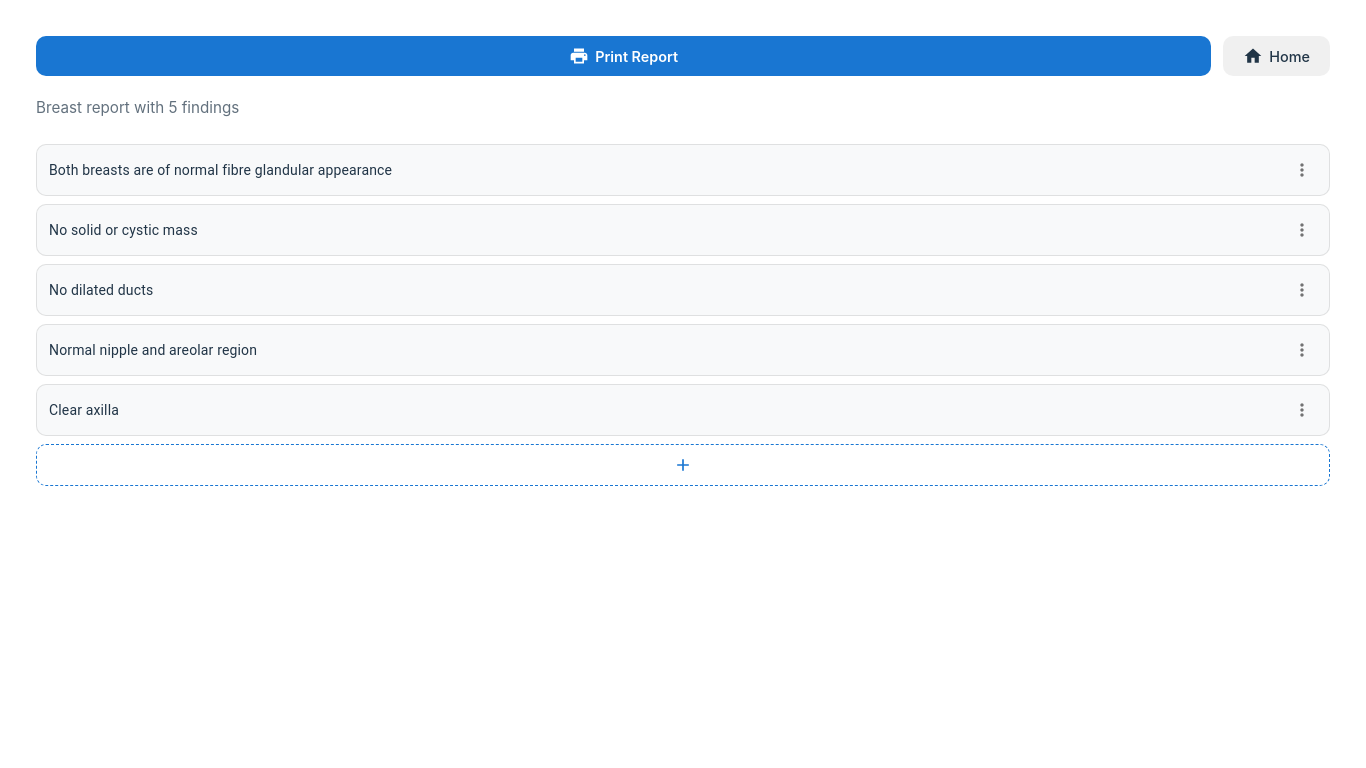
Scenario: MobileReviewCard › discard reverts finding text
Click the 1st button named "Finding options": click(1302, 170) 1287,155 -> 1317,185
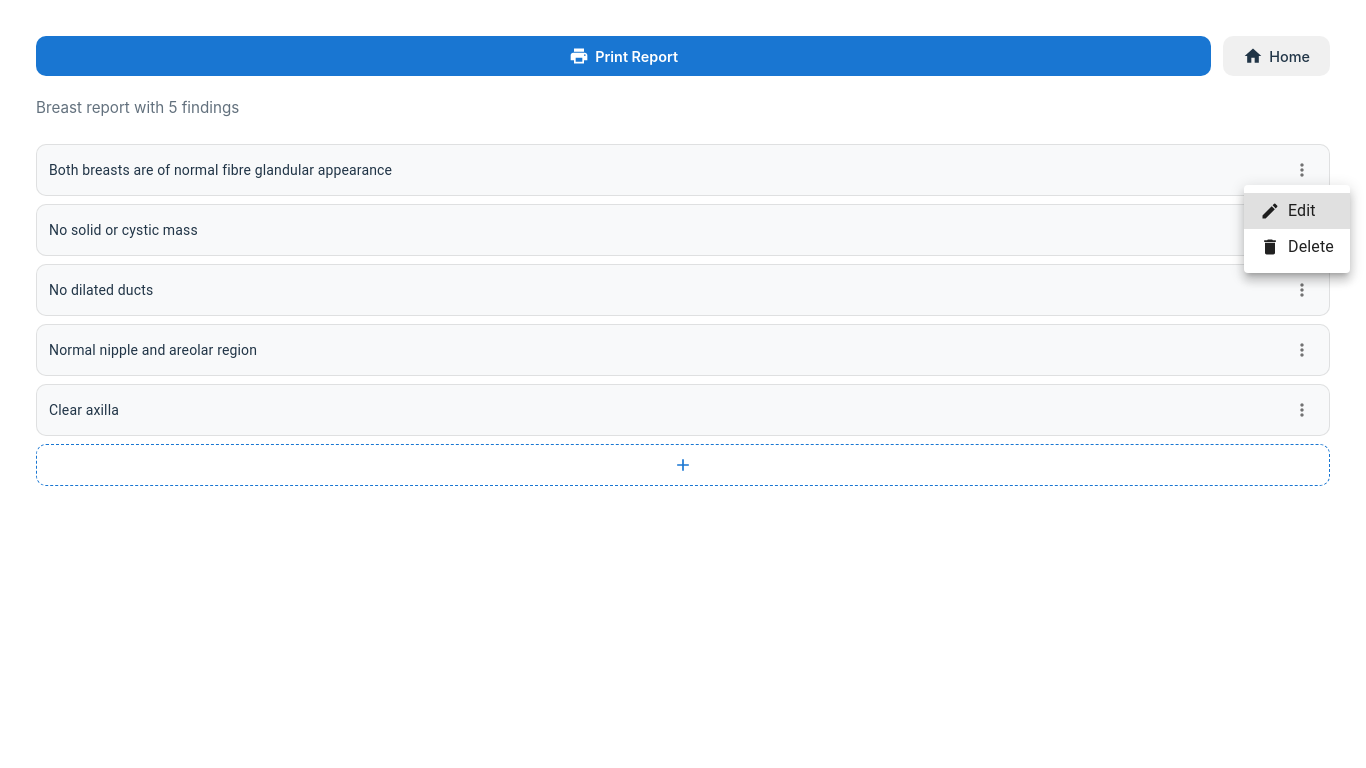
Click the menu item "Edit": click(1297, 211) 1244,193 -> 1350,229
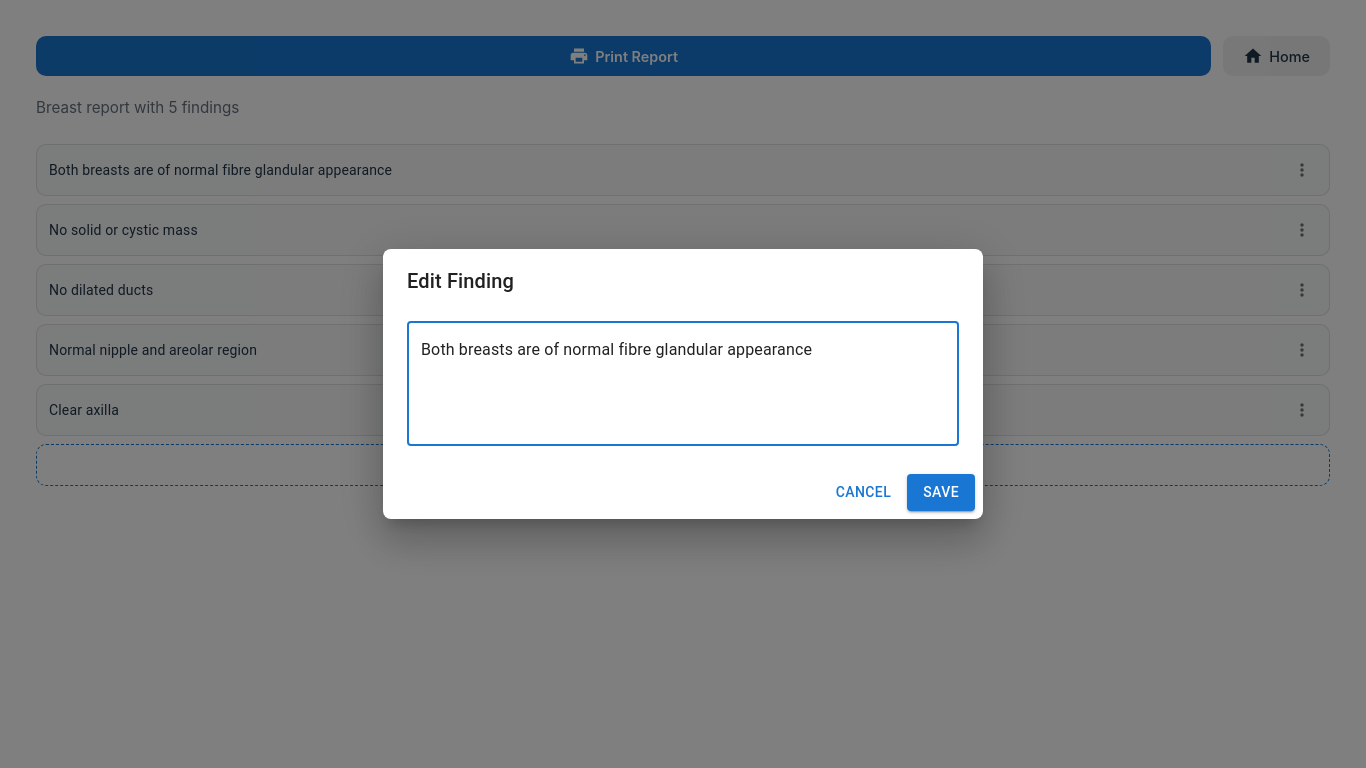
In the text box showing "Both breasts are of normal fibre glandular appearance": (683, 384) 421,338 -> 945,430, type " extra"
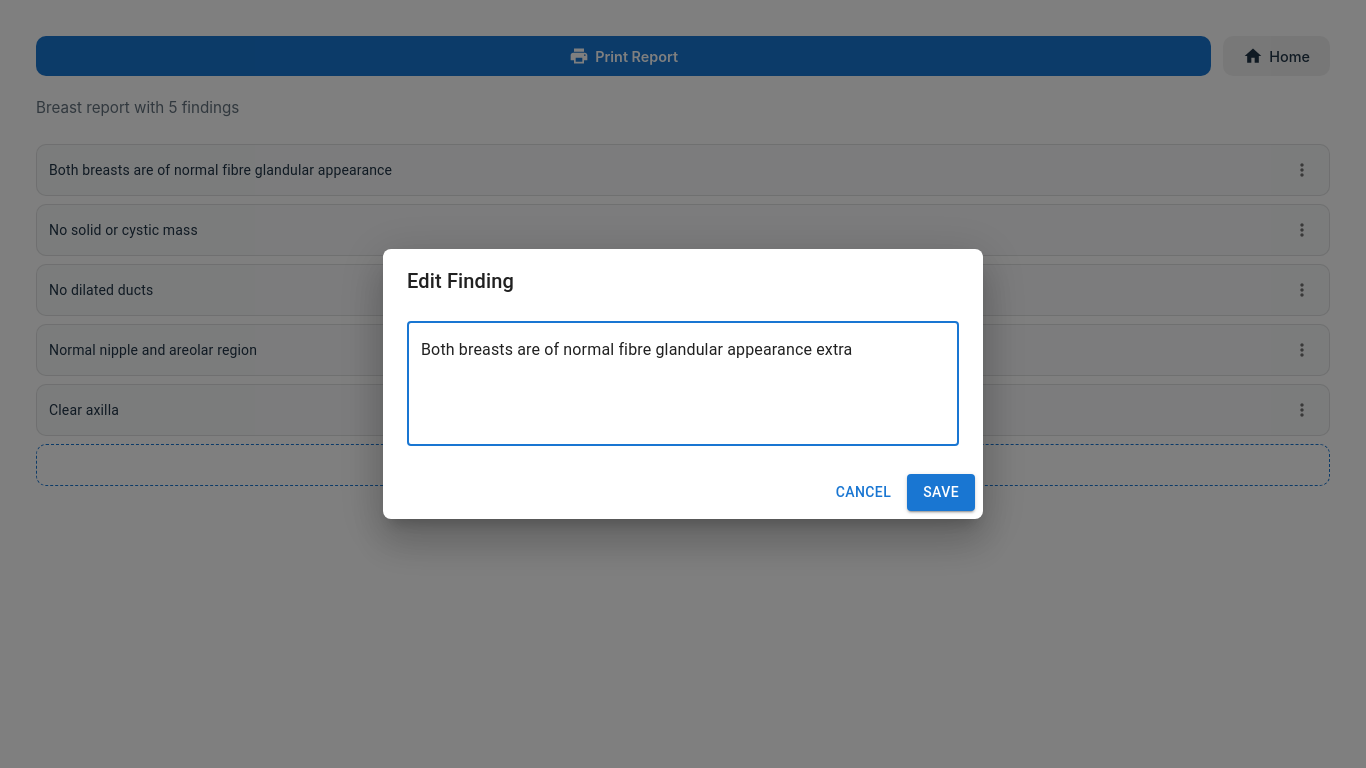
Click the button "Cancel": click(863, 493) 828,474 -> 899,511
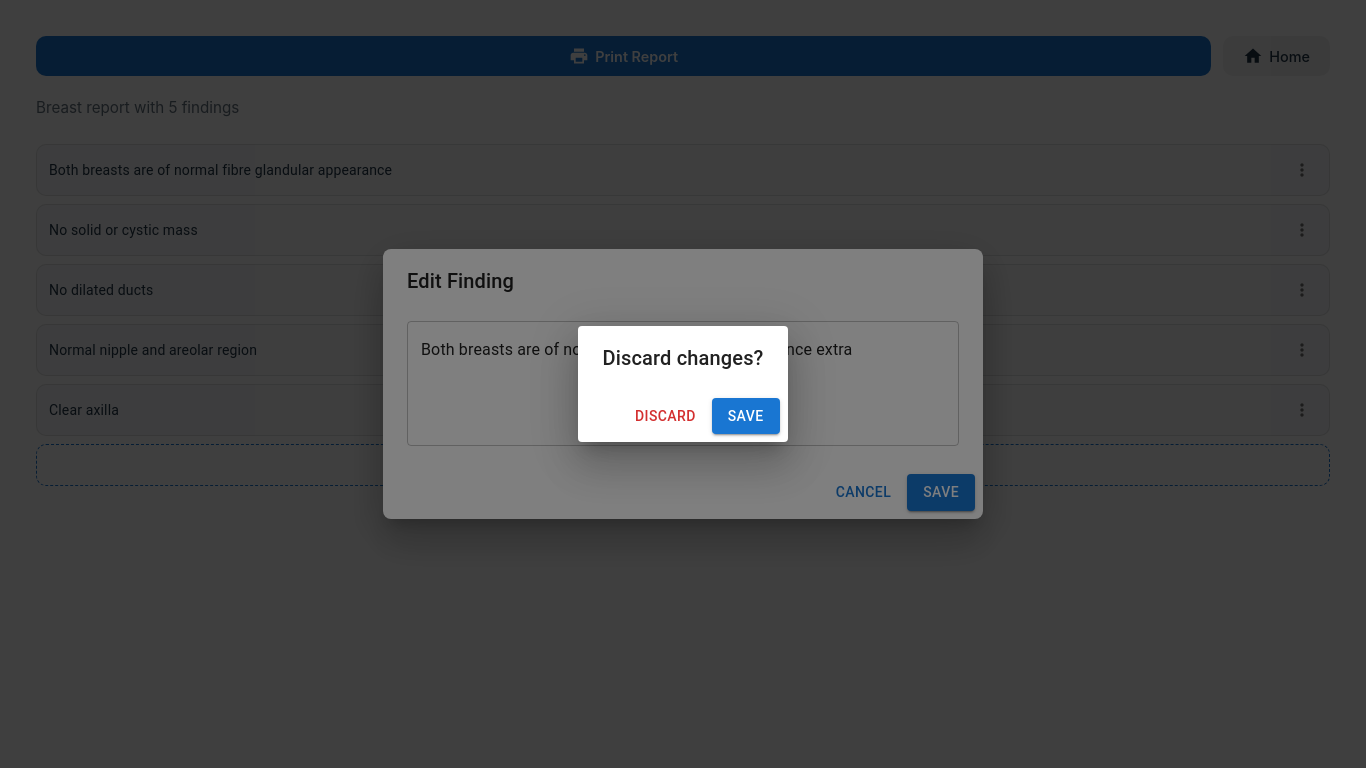
Click the button "Discard": click(665, 416) 627,398 -> 704,434
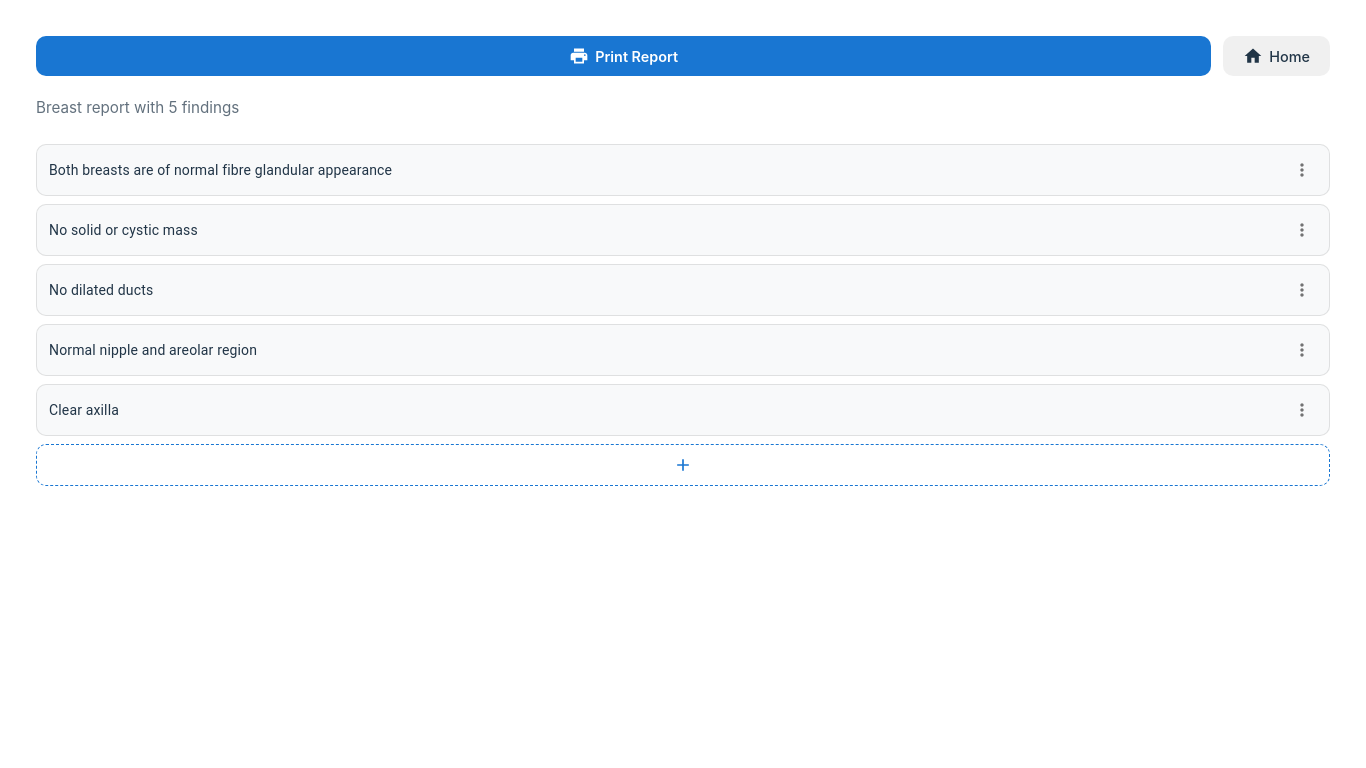
expect the heading "Discard changes?" is gone: met
